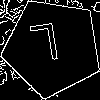L: (27, 22, 63, 72)
